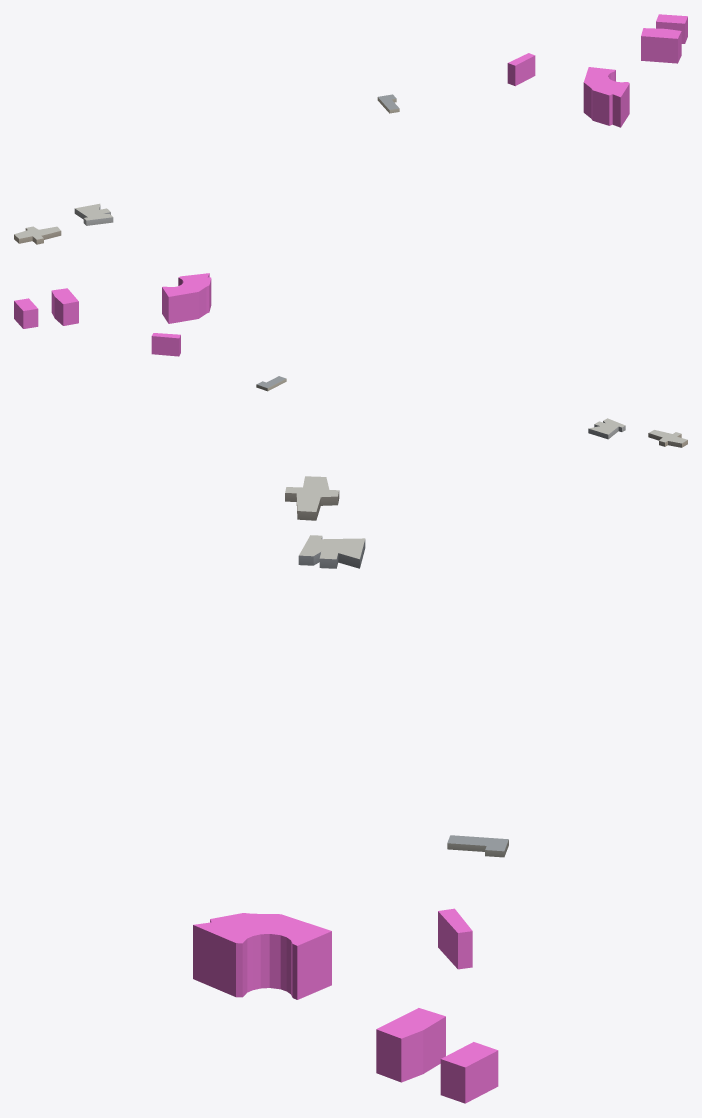
File: bld_14_9.fbx
3 views of the same model, one above another, from view 1: azimuth 30°, elevation 25°; view 2: azimuth 150°, elevation 25°; view 3: azimuth 270°, elevation 25° (orthographic). The views are drawn at different scales.
Visible parts, largest first — view 1: bld_14_9_COL, bld_14_9_LOD0; view 2: bld_14_9_COL, bld_14_9_LOD0; view 3: bld_14_9_COL, bld_14_9_LOD0.
Part boxes in pixels (left/top/right/bottom): bld_14_9_COL: left=507, top=14, right=687, bottom=127; bld_14_9_LOD0: left=14, top=94, right=399, bottom=244; bld_14_9_COL: left=14, top=273, right=211, bottom=356; bld_14_9_LOD0: left=256, top=376, right=687, bottom=447; bld_14_9_COL: left=193, top=908, right=498, bottom=1103; bld_14_9_LOD0: left=285, top=476, right=508, bottom=857.
Size of what is drawn, in the model's own units: 1732 by 70.7 by 374.
